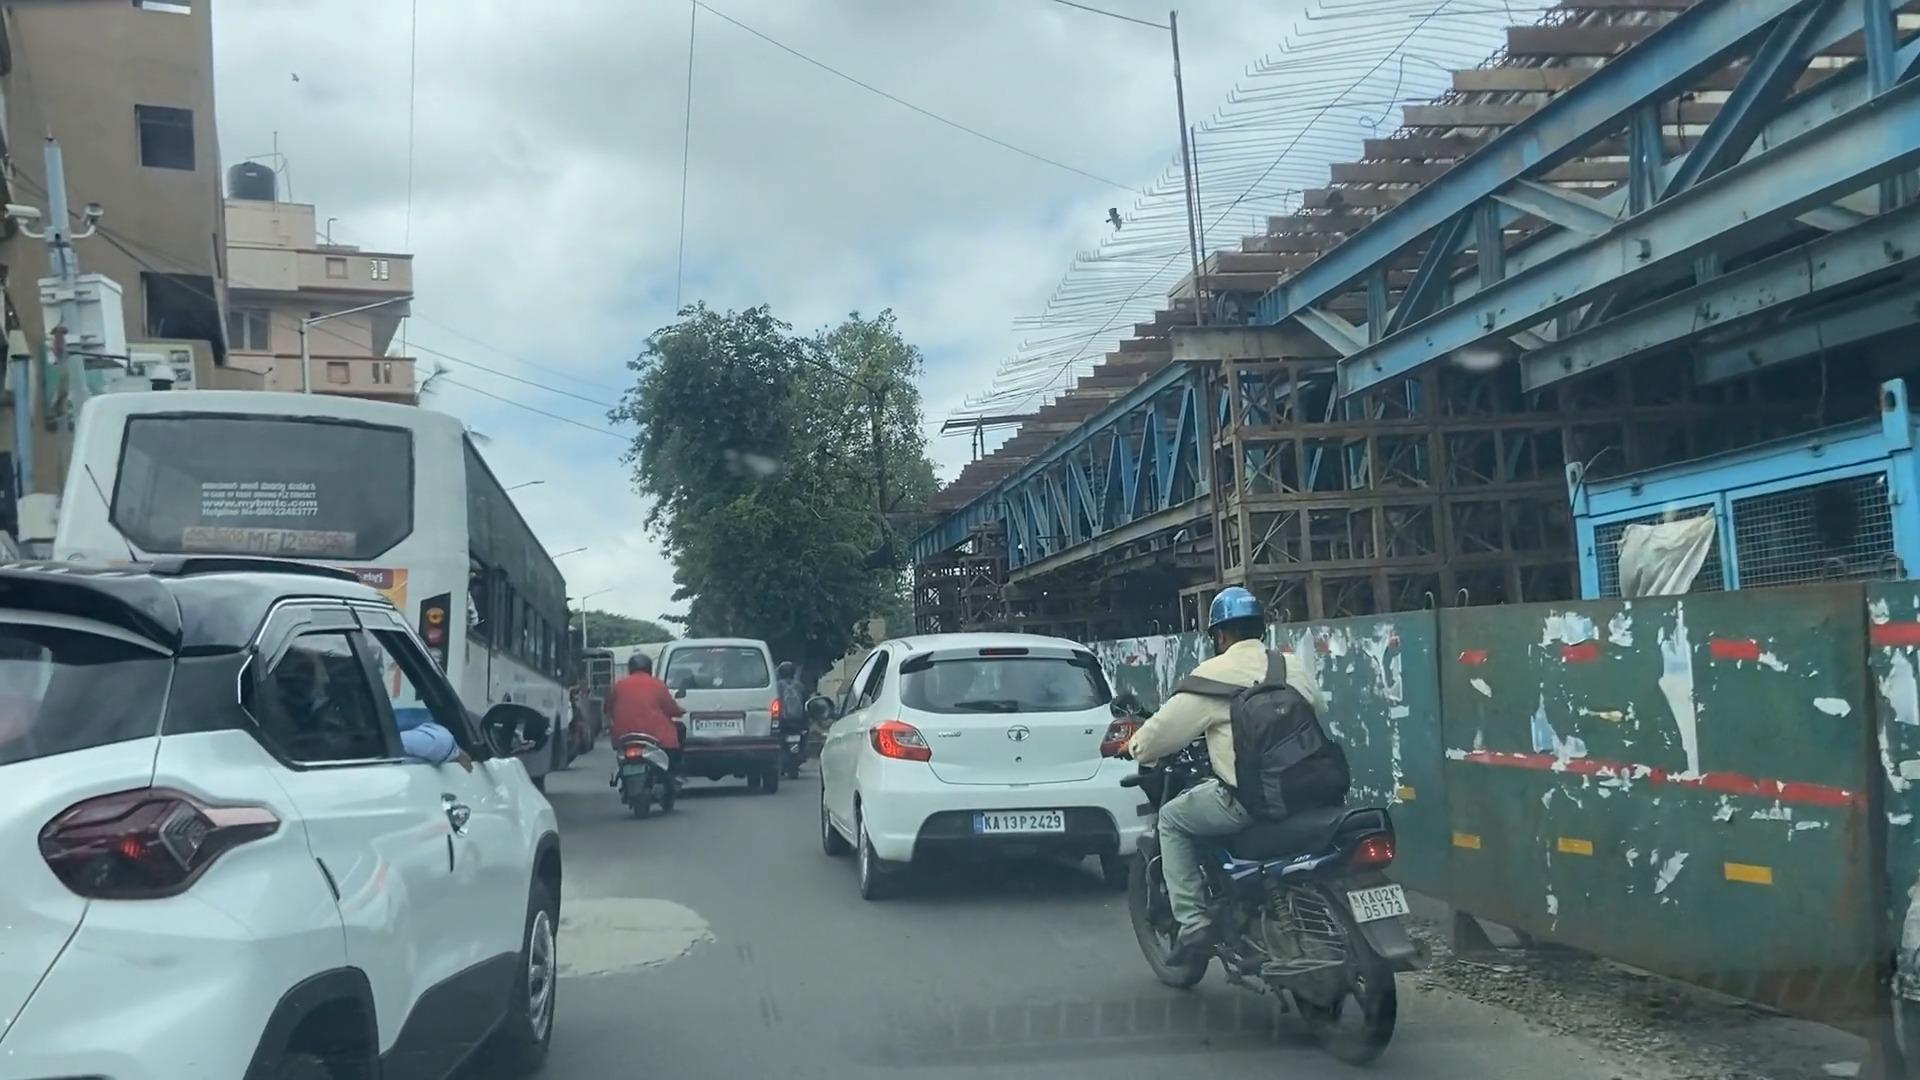LMV: (1156, 616, 1393, 1043), (864, 644, 1112, 905), (611, 651, 679, 819)
RoadDamages: (560, 884, 727, 1000)
